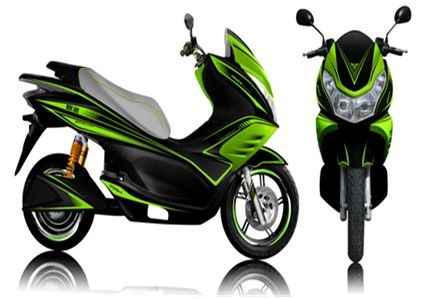non-vehicle: (17, 21, 297, 264), (295, 7, 416, 267)
